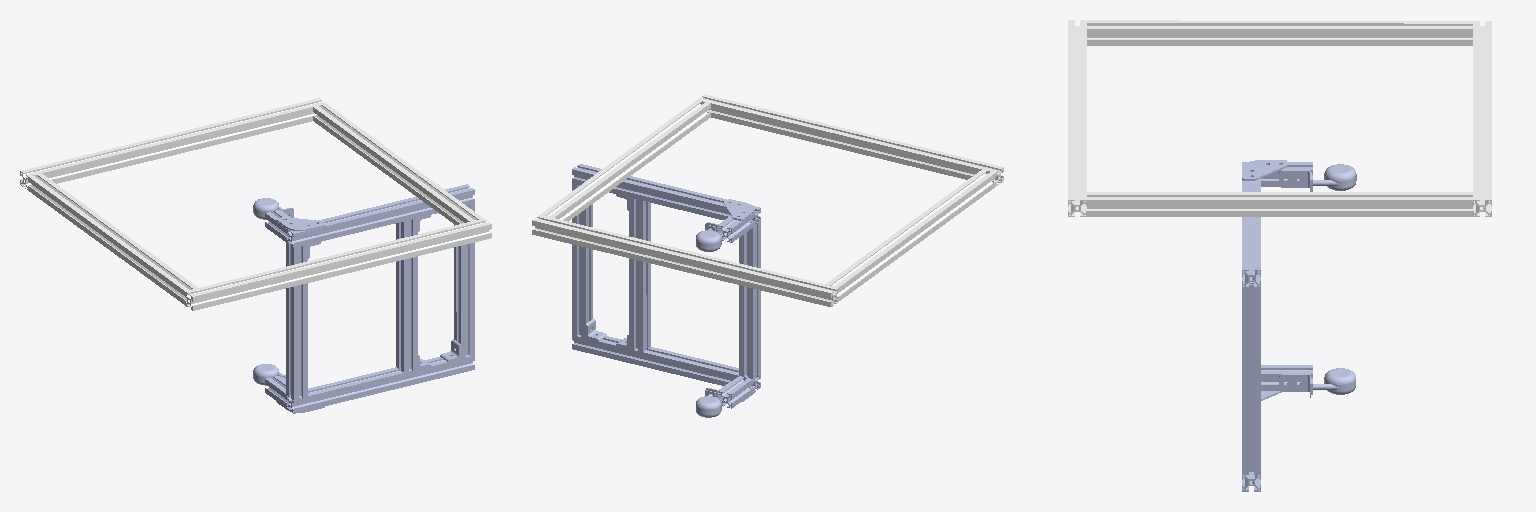
The robot description file, URDF, robot "ROS_Module_Assembly_Four_Wheel_v1":
<?xml version="1.0" encoding="utf-8"?>
<!-- This URDF was automatically created by SolidWorks to URDF Exporter! Originally created by [author] ([email redacted]) 
     Commit Version: 1.6.0-4-g7f85cfe  Build Version: 1.6.7995.38578
     For more information, please see http://wiki.ros.org/sw_urdf_exporter -->
<robot
  name="ROS_Module_Assembly_Four_Wheel_v1">
  
        <link    name="base_link"/>

  <link    name="base_footprint"/>

  <joint    name="base_joint"    type="fixed">
    <origin      xyz="0 0 0"      rpy="1.5706 0 0" />
    <parent      link="base_link" />
    <child       link="chassis_link" />
   </joint>

  <joint    name="footprint_joint"    type="fixed">
    <origin      xyz="0 0 0"      rpy="0 0 0" />
    <child       link="base_link" />
    <parent      link="base_footprint" />
   </joint>

    <link
    name="chassis_link">
    <inertial>
      <origin
        xyz="0 0 0"
        rpy="0 0 0" />
      <mass
        value="0" />
      <inertia
        ixx="0"
        ixy="0"
        ixz="0"
        iyy="0"
        iyz="0"
        izz="0" />
    </inertial>
    <visual>
      <origin
        xyz="0 0 0"
        rpy="0 0 0" />
      <geometry>
        <mesh
          filename="package://ROS_Module_Assembly_Four_Wheel_v1/meshes/chassis_link.STL" />
      </geometry>
      <material
        name="">
        <color
          rgba="1 1 1 1" />
      </material>
    </visual>
    <collision>
      <origin
        xyz="0 0 0"
        rpy="0 0 0" />
      <geometry>
        <mesh
          filename="package://ROS_Module_Assembly_Four_Wheel_v1/meshes/chassis_link.STL" />
      </geometry>
    </collision>
  </link>
  <joint
    name="base_to_chassis"
    type="fixed">
    <origin
      xyz="0.25 -0.24 -0.0209"
      rpy="0 0 0" />
    <parent
      link="chassis_link" />
    <child
      link="base_link_module" />
    <axis
      xyz="0 0 0" />
  </joint>
  
  <link
    name="base_link_module">
    <inertial>
      <origin
        xyz="0.031724 -0.12886 -0.039095"
        rpy="0 0 0" />
      <mass
        value="2.1961" />
      <inertia
        ixx="0.0063697"
        ixy="3.3879E-05"
        ixz="-1.3091E-07"
        iyy="0.0035478"
        iyz="-1.1651E-06"
        izz="0.009033" />
    </inertial>
    <visual>
      <origin
        xyz="0 0 0"
        rpy="0 0 0" />
      <geometry>
        <mesh
          filename="package://ROS_Module_Assembly_Four_Wheel_v1/meshes/base_link.STL" />
      </geometry>
      <material
        name="">
        <color
          rgba="0.79216 0.81961 0.93333 1" />
      </material>
    </visual>
    <collision>
      <origin
        xyz="0 0 0"
        rpy="0 0 0" />
      <geometry>
        <mesh
          filename="package://ROS_Module_Assembly_Four_Wheel_v1/meshes/base_link.STL" />
      </geometry>
    </collision>
  </link>
  <link
    name="input_rot_motor">
    <inertial>
      <origin
        xyz="-4.2772E-05 0.032009 7.4354E-05"
        rpy="0 0 0" />
      <mass
        value="0.025091" />
      <inertia
        ixx="7.1785E-06"
        ixy="6.7784E-10"
        ixz="-1.1692E-08"
        iyy="2.3424E-06"
        iyz="-1.1777E-09"
        izz="7.1921E-06" />
    </inertial>
    <visual>
      <origin
        xyz="0 0 0"
        rpy="0 0 0" />
      <geometry>
        <mesh
          filename="package://ROS_Module_Assembly_Four_Wheel_v1/meshes/input_rot_motor.STL" />
      </geometry>
      <material
        name="">
        <color
          rgba="0.79216 0.81961 0.93333 1" />
      </material>
    </visual>
    <collision>
      <origin
        xyz="0 0 0"
        rpy="0 0 0" />
      <geometry>
        <mesh
          filename="package://ROS_Module_Assembly_Four_Wheel_v1/meshes/input_rot_motor.STL" />
      </geometry>
    </collision>
  </link>
  <joint
    name="base_to_input_rot_motor"
    type="continuous">
    <origin
      xyz="-0.0042500000000002 -0.18426521062757 -0.00899999999999995"
      rpy="1.5707963267949 0 -1.5707963267949" />
    <parent
      link="base_link_module" />
    <child
      link="input_rot_motor" />
    <axis
      xyz="0 1 0" />
  </joint>
  <link
    name="input_transl_motor">
    <inertial>
      <origin
        xyz="-1.865E-05 0.047153 -6.6546E-05"
        rpy="0 0 0" />
      <mass
        value="0.032255" />
      <inertia
        ixx="1.5951E-05"
        ixy="1.8513E-09"
        ixz="3.575E-09"
        iyy="2.7304E-06"
        iyz="6.6055E-09"
        izz="1.5963E-05" />
    </inertial>
    <visual>
      <origin
        xyz="0 0 0"
        rpy="0 0 0" />
      <geometry>
        <mesh
          filename="package://ROS_Module_Assembly_Four_Wheel_v1/meshes/input_transl_motor.STL" />
      </geometry>
      <material
        name="">
        <color
          rgba="0.79216 0.81961 0.93333 1" />
      </material>
    </visual>
    <collision>
      <origin
        xyz="0 0 0"
        rpy="0 0 0" />
      <geometry>
        <mesh
          filename="package://ROS_Module_Assembly_Four_Wheel_v1/meshes/input_transl_motor.STL" />
      </geometry>
    </collision>
  </link>
  <joint
    name="base_to_transl_input"
    type="continuous">
    <origin
      xyz="0.0761500000000042 -0.168973339641516 -0.00800000000000012"
      rpy="1.5707963267949 0 -1.85423215999576" />
    <parent
      link="base_link_module" />
    <child
      link="input_transl_motor" />
    <axis
      xyz="0 1 0" />
  </joint>
  <link
    name="fork">
    <inertial>
      <origin
        xyz="9.7197E-05 0.019855 -0.17644"
        rpy="0 0 0" />
      <mass
        value="2.1939" />
      <inertia
        ixx="0.0090617"
        ixy="-1.5464E-08"
        ixz="4.262E-06"
        iyy="0.01149"
        iyz="2.9335E-05"
        izz="0.0039097" />
    </inertial>
    <visual>
      <origin
        xyz="0 0 0"
        rpy="0 0 0" />
      <geometry>
        <mesh
          filename="package://ROS_Module_Assembly_Four_Wheel_v1/meshes/fork.STL" />
      </geometry>
      <material
        name="">
        <color
          rgba="0.79216 0.81961 0.93333 1" />
      </material>
    </visual>
    <collision>
      <origin
        xyz="0 0 0"
        rpy="0 0 0" />
      <geometry>
        <mesh
          filename="package://ROS_Module_Assembly_Four_Wheel_v1/meshes/fork.STL" />
      </geometry>
    </collision>
  </link>
  <joint
    name="base_to_rot_fork"
    type="continuous">
    <origin
      xyz="0 0 0"
      rpy="0 0 0" />
    <parent
      link="base_link_module" />
    <child
      link="fork" />
    <axis
      xyz="0 0 1" />
  </joint>
  <link
    name="wheel">
    <inertial>
      <origin
        xyz="-3.0377E-06 -3.9614E-06 -0.0039564"
        rpy="0 0 0" />
      <mass
        value="2.0757" />
      <inertia
        ixx="0.016615"
        ixy="-4.0151E-09"
        ixz="9.5859E-08"
        iyy="0.016615"
        iyz="1.5018E-09"
        izz="0.0323" />
    </inertial>
    <visual>
      <origin
        xyz="0 0 0"
        rpy="0 0 0" />
      <geometry>
        <mesh
          filename="package://ROS_Module_Assembly_Four_Wheel_v1/meshes/wheel.STL" />
      </geometry>
      <material
        name="">
        <color
          rgba="0.79216 0.81961 0.93333 1" />
      </material>
    </visual>
    <collision>
      <origin
        xyz="0 0 0"
        rpy="0 0 0" />
      <geometry>
        <mesh
          filename="package://ROS_Module_Assembly_Four_Wheel_v1/meshes/wheel.STL" />
      </geometry>
    </collision>
  </link>
  <joint
    name="fork_to_wheel"
    type="continuous">
    <origin
      xyz="0 0.000500000000000458 -0.335999999999999"
      rpy="1.5707963267949 0 0" />
    <parent
      link="fork" />
    <child
      link="wheel" />
    <axis
      xyz="0 0 -1" />
  </joint>
  <link
    name="vert_bevel_shaft">
    <inertial>
      <origin
        xyz="-2.1092E-05 1.2062E-06 -0.034965"
        rpy="0 0 0" />
      <mass
        value="0.11927" />
      <inertia
        ixx="0.00012323"
        ixy="-6.9262E-10"
        ixz="4.6605E-08"
        iyy="0.00012322"
        iyz="-2.6667E-09"
        izz="6.1731E-05" />
    </inertial>
    <visual>
      <origin
        xyz="0 0 0"
        rpy="0 0 0" />
      <geometry>
        <mesh
          filename="package://ROS_Module_Assembly_Four_Wheel_v1/meshes/vert_bevel_shaft.STL" />
      </geometry>
      <material
        name="">
        <color
          rgba="0.79216 0.81961 0.93333 1" />
      </material>
    </visual>
    <collision>
      <origin
        xyz="0 0 0"
        rpy="0 0 0" />
      <geometry>
        <mesh
          filename="package://ROS_Module_Assembly_Four_Wheel_v1/meshes/vert_bevel_shaft.STL" />
      </geometry>
    </collision>
  </link>
  <joint
    name="base_to_rot_bevel_shaft"
    type="continuous">
    <origin
      xyz="0 0 0"
      rpy="3.1416 0 -1.5708" />
    <parent
      link="base_link_module" />
    <child
      link="vert_bevel_shaft" />
    <axis
      xyz="0 0 -1" />
  </joint>
</robot>

--- Facts derived from the render (not from the file) ---
Views: 3 orthographic renders of the robot side by side, from view 1: azimuth 30°, elevation 25°; view 2: azimuth 150°, elevation 25°; view 3: azimuth 270°, elevation 25°.
Robot: ROS_Module_Assembly_Four_Wheel_v1 — 9 links, 8 joints (5 continuous, 3 fixed); root link base_footprint; default pose: every joint at zero.
Links seen in each view (by area): view 1: chassis_link, base_link_module; view 2: chassis_link, base_link_module; view 3: chassis_link, base_link_module.
Boxes of the visible links, x1=… form: chassis_link: x1=20, y1=98, x2=491, y2=310; base_link_module: x1=253, y1=184, x2=474, y2=413; chassis_link: x1=532, y1=94, x2=1003, y2=306; base_link_module: x1=572, y1=164, x2=760, y2=417; chassis_link: x1=1068, y1=20, x2=1491, y2=216; base_link_module: x1=1242, y1=160, x2=1356, y2=491.
Bounding box of the posed robot: 0.78 × 0.66 × 0.4481 m (x, y, z).
Meshes: 7 distinct files referenced, 2 mesh visuals loaded (2 binary STL); not drawn: 5 (reference not matched to a file when rendering).